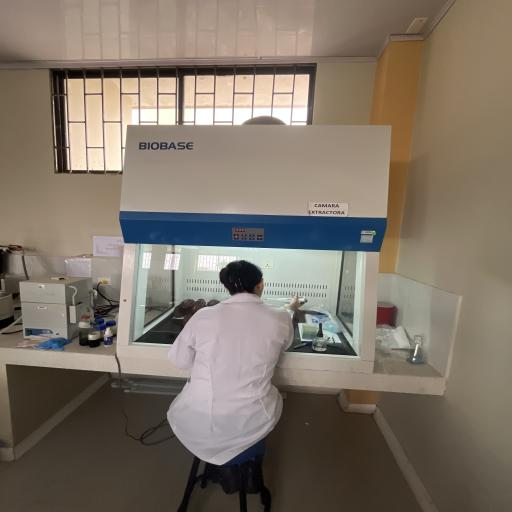Camara_Extractora_Biobase: (111, 114, 395, 386)
